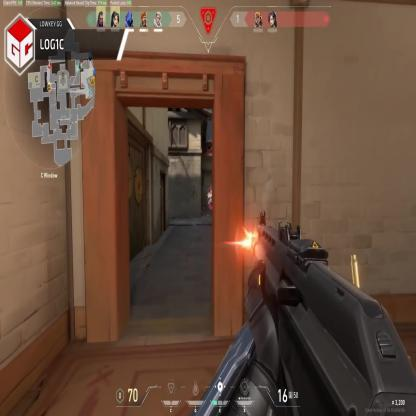enemy: (206, 184, 213, 216)
enemy_head: (209, 186, 212, 194)
